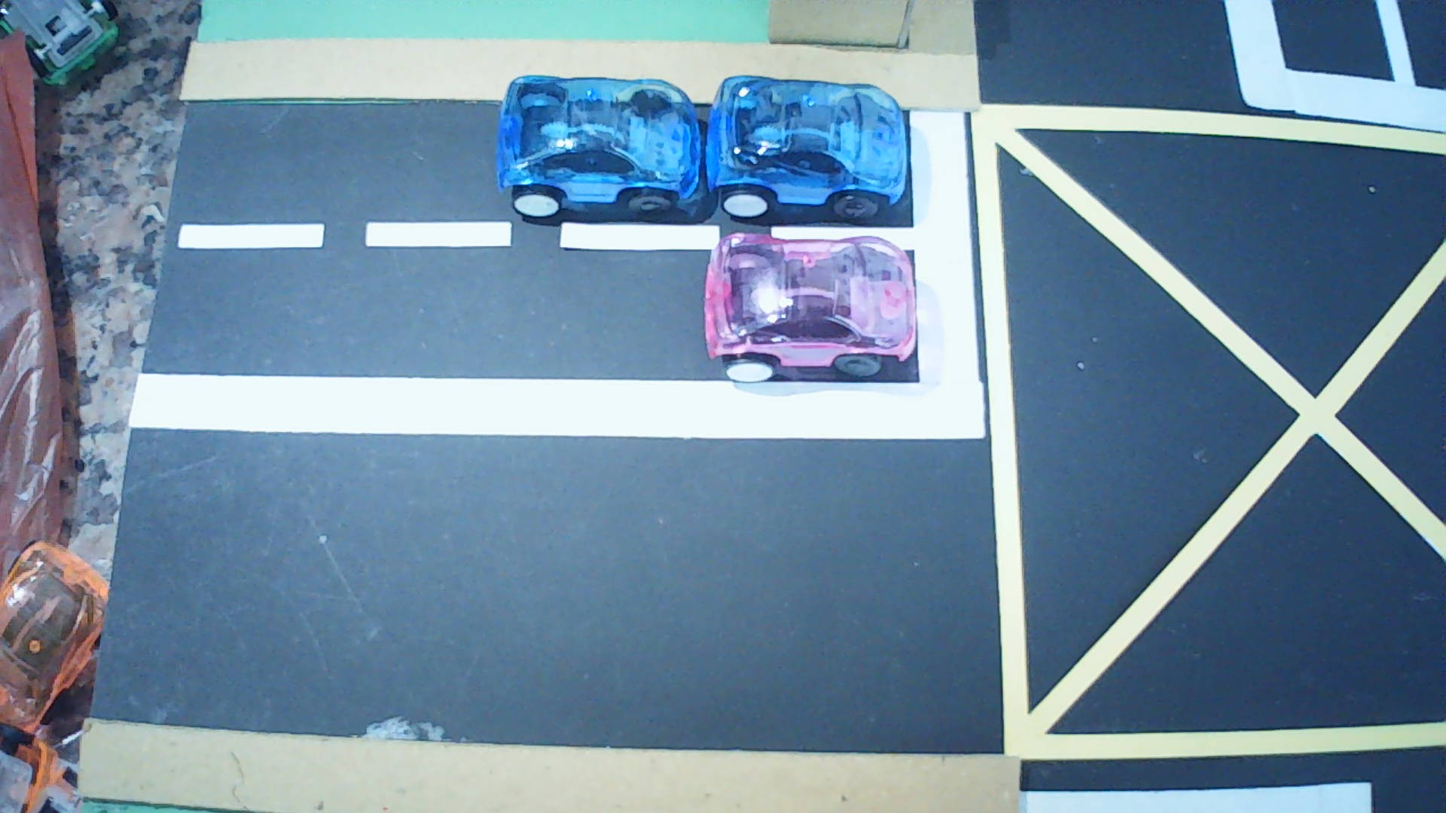Mobil biru: (703, 76, 910, 221), (497, 76, 703, 218)
Mobil ungu: (703, 234, 917, 383)
